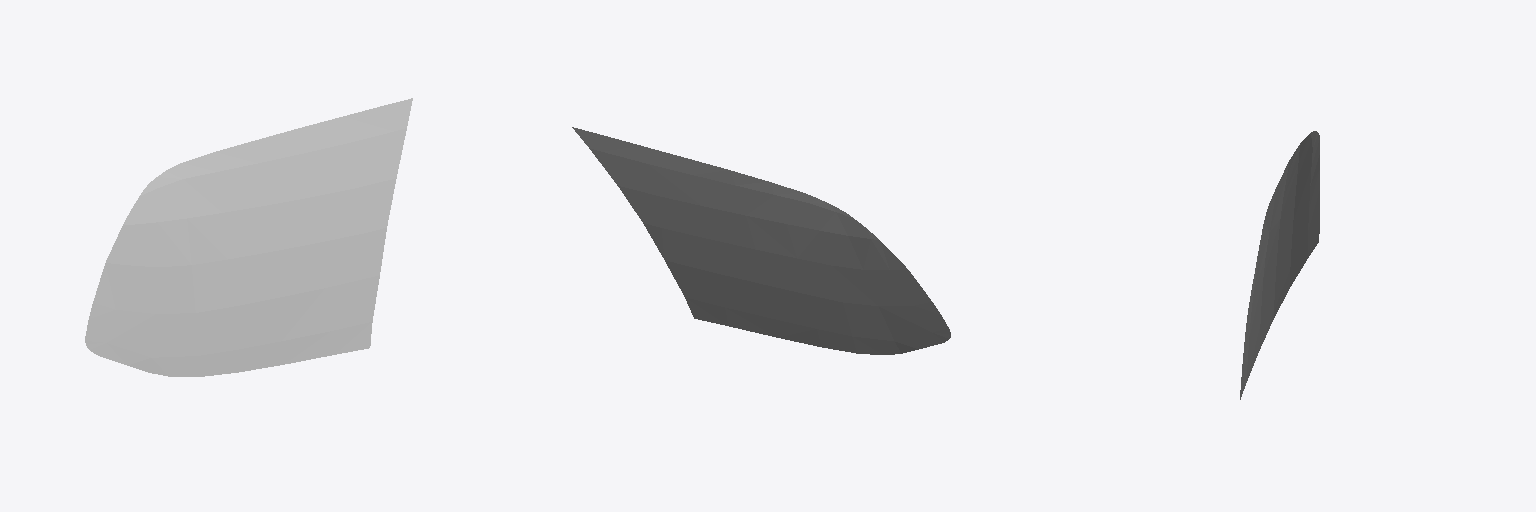
The picture shows the model from 3 angles: view 1: azimuth 30°, elevation 25°; view 2: azimuth 150°, elevation 25°; view 3: azimuth 270°, elevation 25°; orthographic projection.
Parts seen in each view (by area): view 1: U721_40SG_R_1_DTaSI_U721_40SG_R; view 2: U721_40SG_R_1_DTaSI_U721_40SG_R; view 3: U721_40SG_R_1_DTaSI_U721_40SG_R.
Boxes of the visible parts, x1=… form: U721_40SG_R_1_DTaSI_U721_40SG_R: x1=85, y1=98, x2=412, y2=376; U721_40SG_R_1_DTaSI_U721_40SG_R: x1=572, y1=127, x2=950, y2=354; U721_40SG_R_1_DTaSI_U721_40SG_R: x1=1240, y1=131, x2=1319, y2=399.
Bounding box in the file's own units: 95.46 × 51.81 × 18.91.